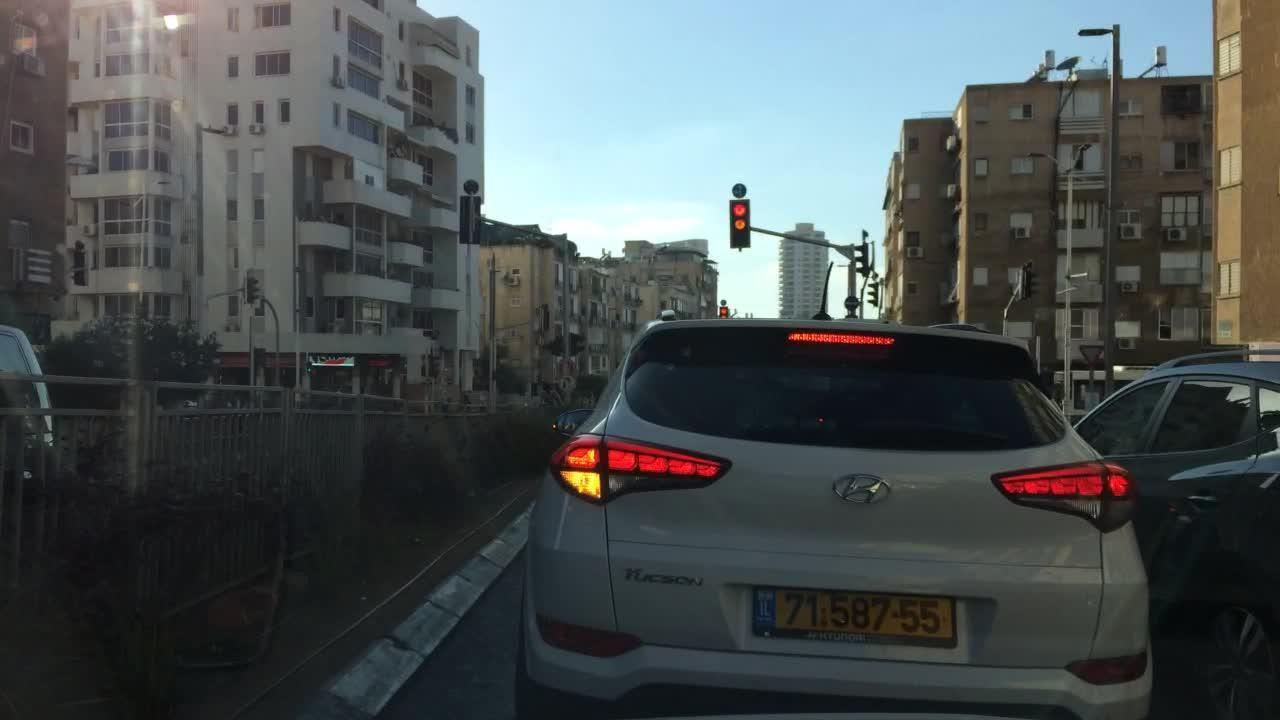Hyundai: (822, 467, 902, 512)
